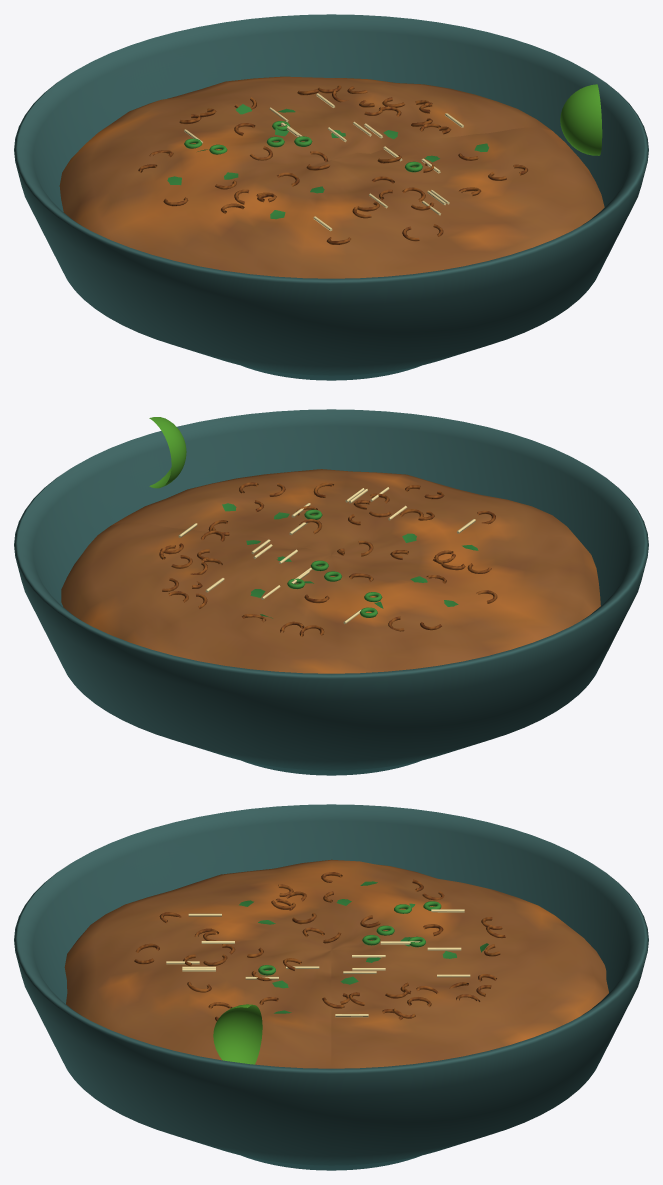
Rendered from haleem.glb.
The picture shows the model from 3 angles, top to bottom: view 1: azimuth 30°, elevation 25°; view 2: azimuth 150°, elevation 25°; view 3: azimuth 270°, elevation 25°; orthographic projection.
Parts seen in each view (by area): view 1: ceramic, food, garnish; view 2: ceramic, food, garnish; view 3: ceramic, food, garnish.
Boxes of the visible parts, <box> form: ceramic: <box>14,14,648,380</box>; food: <box>59,76,604,278</box>; garnish: <box>138,84,602,244</box>; ceramic: <box>14,409,648,775</box>; food: <box>61,469,600,673</box>; garnish: <box>149,417,497,636</box>; ceramic: <box>14,804,648,1170</box>; food: <box>64,859,608,1068</box>; garnish: <box>134,872,505,1064</box>.
Bounding box in the file's own units: 1.52 × 0.57 × 1.52.
